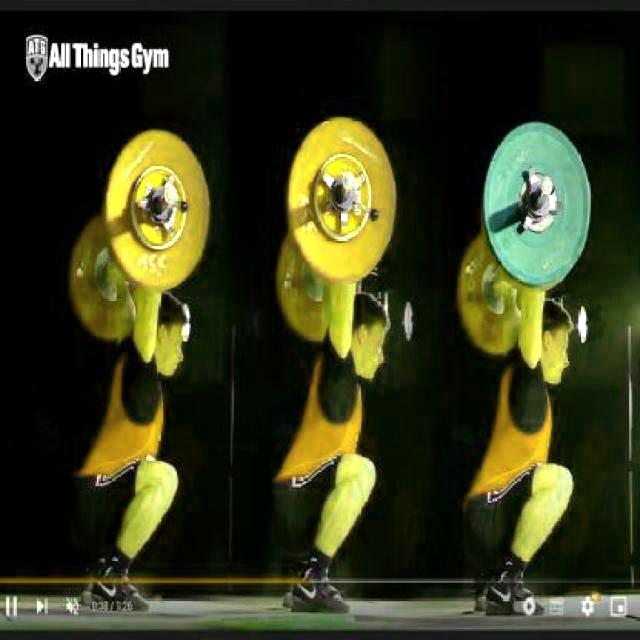barbell: (96, 125, 215, 301), (480, 113, 595, 292), (286, 115, 404, 287)
